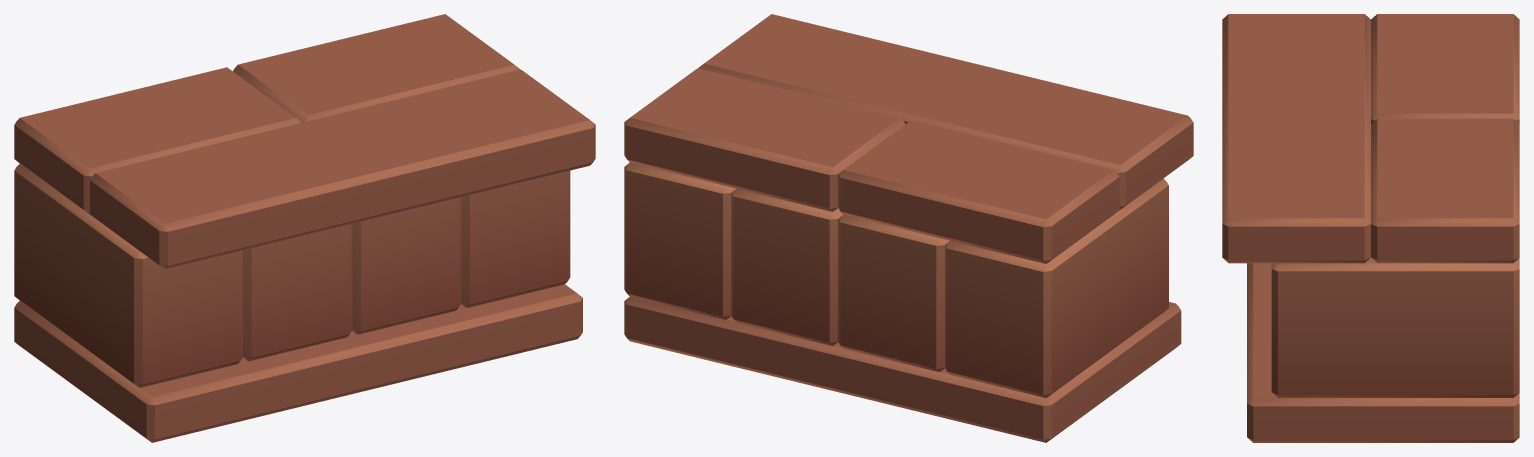
The model's file is bar_straight_A.glb.
3 views of the same model, side by side, from view 1: azimuth 30°, elevation 25°; view 2: azimuth 150°, elevation 25°; view 3: azimuth 270°, elevation 25° (orthographic). The views are drawn at different scales.
Visible parts, largest first — view 1: bar_straight_A; view 2: bar_straight_A; view 3: bar_straight_A.
Boxes of the visible parts, left/top/right/bottom form: bar_straight_A: left=14, top=14, right=595, bottom=442; bar_straight_A: left=624, top=14, right=1193, bottom=442; bar_straight_A: left=1222, top=14, right=1519, bottom=442.
Bounding box in the file's own units: 2 × 1 × 1.2.
1 material, 1 textured.
